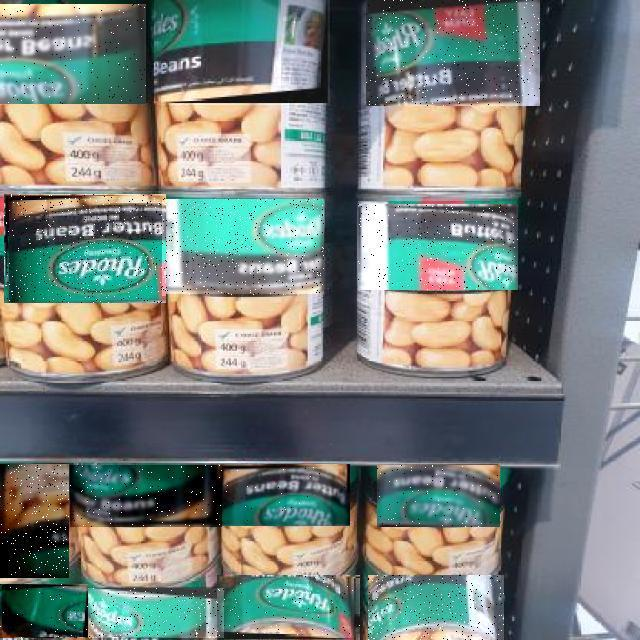Beans: (155, 0, 331, 105), (366, 0, 540, 106), (5, 194, 167, 303), (162, 200, 324, 296), (0, 5, 146, 105), (359, 204, 519, 290), (70, 465, 222, 527), (217, 575, 360, 640), (368, 575, 504, 640), (218, 465, 350, 527), (0, 465, 69, 579), (377, 465, 500, 527), (88, 588, 224, 638), (0, 585, 88, 639)
